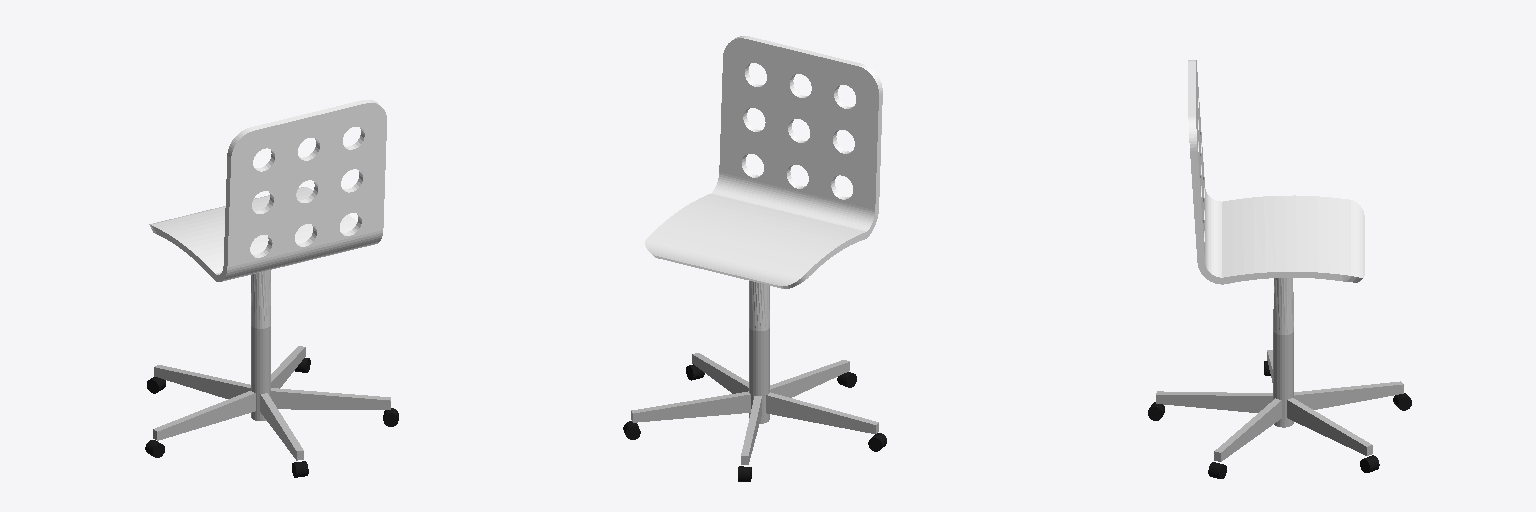
3 views of the same model, side by side, from view 1: azimuth 30°, elevation 25°; view 2: azimuth 150°, elevation 25°; view 3: azimuth 270°, elevation 25° (orthographic).
Parts seen in each view (by area): view 1: Mesh1 Group2 Group1 Model, Mesh12 Group3 ske3F1 Group1 Model, Mesh5 Group5 Group3 ske3F1 Group1 Model, Mesh7 Group6 Group3 ske3F1 Group1 Model, Mesh3 Group4 Group3 ske3F1 Group1 Model, Mesh9 Group7 Group3 ske3F1 Group1 Model, Mesh11 Group8 Group3 ske3F1 Group1 Model; view 2: Mesh1 Group2 Group1 Model, Mesh12 Group3 ske3F1 Group1 Model, Mesh11 Group8 Group3 ske3F1 Group1 Model, Mesh7 Group6 Group3 ske3F1 Group1 Model, Mesh9 Group7 Group3 ske3F1 Group1 Model, Mesh5 Group5 Group3 ske3F1 Group1 Model, Mesh3 Group4 Group3 ske3F1 Group1 Model; view 3: Mesh1 Group2 Group1 Model, Mesh12 Group3 ske3F1 Group1 Model, Mesh9 Group7 Group3 ske3F1 Group1 Model, Mesh3 Group4 Group3 ske3F1 Group1 Model, Mesh11 Group8 Group3 ske3F1 Group1 Model, Mesh5 Group5 Group3 ske3F1 Group1 Model.
Part boxes in pixels (x1,y1,x2,y2): Mesh1 Group2 Group1 Model: (149, 100, 386, 281); Mesh12 Group3 ske3F1 Group1 Model: (251, 270, 270, 420); Mesh5 Group5 Group3 ske3F1 Group1 Model: (270, 388, 390, 409); Mesh7 Group6 Group3 ske3F1 Group1 Model: (153, 391, 255, 440); Mesh3 Group4 Group3 ske3F1 Group1 Model: (154, 365, 250, 398); Mesh9 Group7 Group3 ske3F1 Group1 Model: (260, 393, 303, 460); Mesh11 Group8 Group3 ske3F1 Group1 Model: (271, 346, 305, 388); Mesh1 Group2 Group1 Model: (645, 36, 882, 288); Mesh12 Group3 ske3F1 Group1 Model: (749, 281, 769, 423); Mesh11 Group8 Group3 ske3F1 Group1 Model: (631, 391, 750, 422); Mesh7 Group6 Group3 ske3F1 Group1 Model: (766, 392, 878, 433); Mesh9 Group7 Group3 ske3F1 Group1 Model: (770, 360, 849, 397); Mesh5 Group5 Group3 ske3F1 Group1 Model: (692, 353, 748, 393); Mesh3 Group4 Group3 ske3F1 Group1 Model: (741, 396, 761, 464); Mesh1 Group2 Group1 Model: (1188, 60, 1364, 284); Mesh12 Group3 ske3F1 Group1 Model: (1273, 278, 1293, 427); Mesh9 Group7 Group3 ske3F1 Group1 Model: (1156, 391, 1272, 412); Mesh3 Group4 Group3 ske3F1 Group1 Model: (1294, 381, 1403, 409); Mesh11 Group8 Group3 ske3F1 Group1 Model: (1287, 398, 1372, 455); Mesh5 Group5 Group3 ske3F1 Group1 Model: (1214, 398, 1281, 461).
Size of the model in its own units: 0.5383 by 0.7822 by 0.5486.